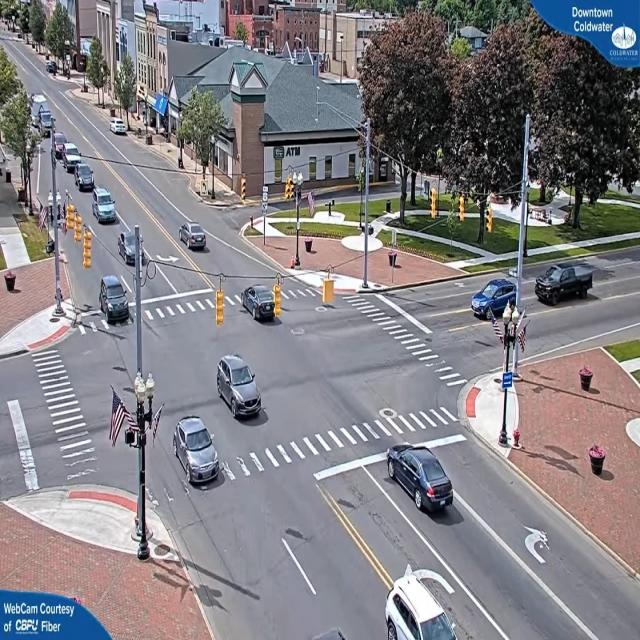car: (386, 566, 468, 640), (387, 442, 456, 516), (216, 354, 263, 420), (176, 417, 220, 487), (533, 264, 593, 304), (472, 278, 520, 323), (100, 273, 132, 325), (93, 187, 116, 222), (180, 223, 208, 251), (76, 162, 98, 190), (110, 120, 129, 136)
